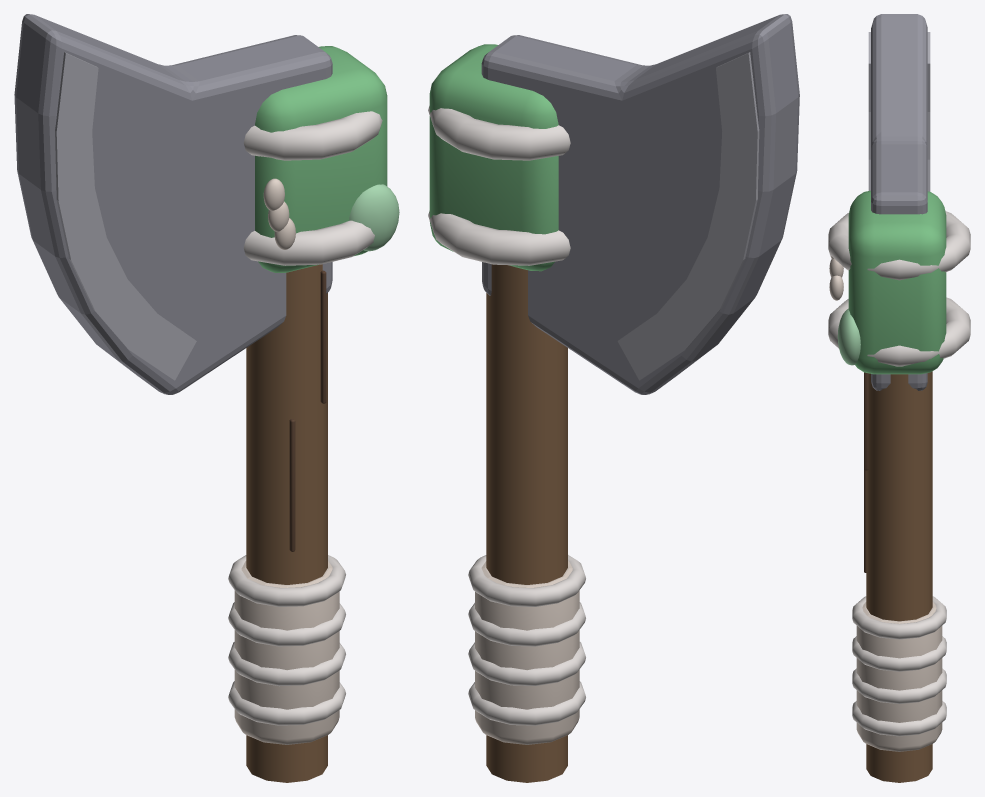
The model's file is axe1.glb.
3 views of the same model, side by side, from view 1: azimuth 30°, elevation 25°; view 2: azimuth 150°, elevation 25°; view 3: azimuth 270°, elevation 25° (orthographic). The views are drawn at different scales.
Parts seen in each view (by area): view 1: _box, _cyl.001, _box.002; view 2: _box, _cyl.001, _box.002; view 3: _box, _cyl.001, _box.002.
Boxes of the visible parts, x1,y1,x2,y2 form: _box: [14, 14, 332, 782]; _cyl.001: [228, 111, 382, 744]; _box.002: [255, 46, 399, 272]; _box: [481, 14, 799, 782]; _cyl.001: [428, 106, 585, 744]; _box.002: [429, 44, 558, 271]; _box: [864, 14, 932, 782]; _cyl.001: [828, 211, 970, 751]; _box.002: [837, 190, 946, 374].
Size of the model in its own units: 0.4135 by 0.9143 by 0.1799.
